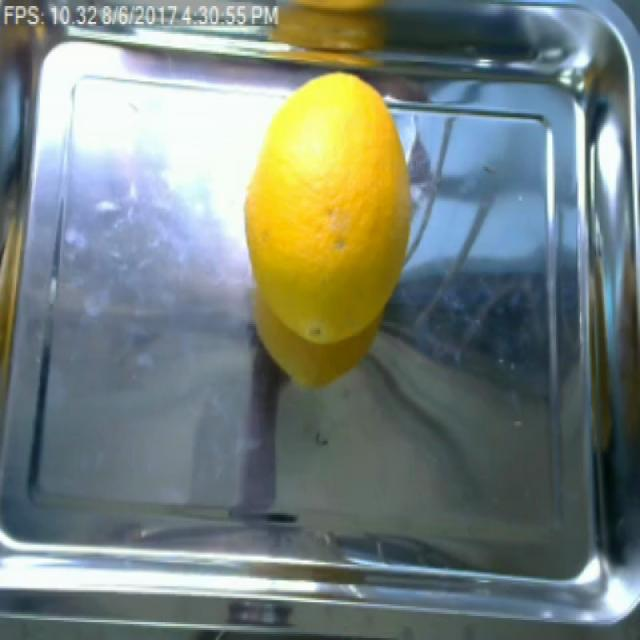Fruit: (229, 62, 415, 374), (259, 0, 413, 66)
